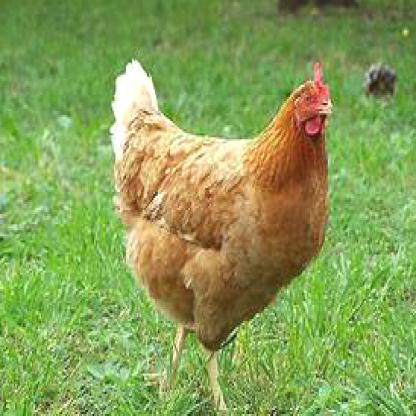chicken: (111, 61, 334, 410)
